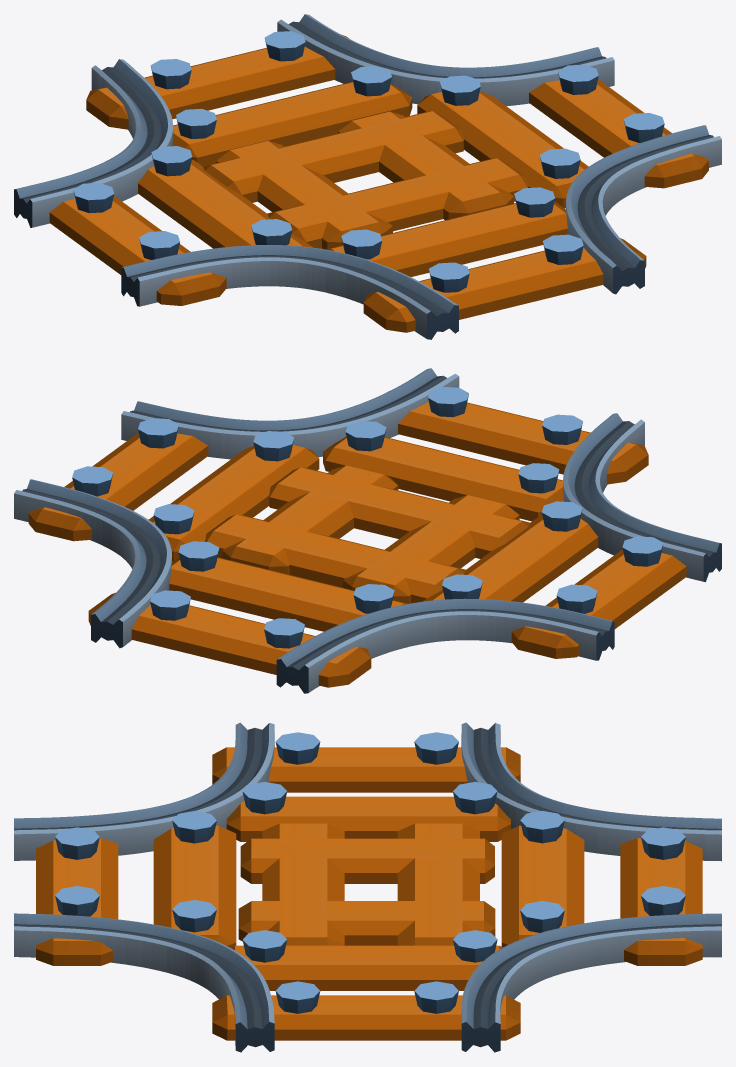
Rendered from 4Br-ArtiRay.fbx.
3 renders of one model, top to bottom at view 1: azimuth 30°, elevation 25°; view 2: azimuth 150°, elevation 25°; view 3: azimuth 270°, elevation 25°, orthographic. The views are drawn at different scales.
Parts seen in each view (by area): view 1: 4Br-ArtiRay; view 2: 4Br-ArtiRay; view 3: 4Br-ArtiRay.
Boxes of the visible parts, x1,y1,x2,y2 form: 4Br-ArtiRay: (14,14,721,339); 4Br-ArtiRay: (14,368,721,693); 4Br-ArtiRay: (14,722,721,1052).
Size of the model in its own units: 400 by 25.32 by 400.
